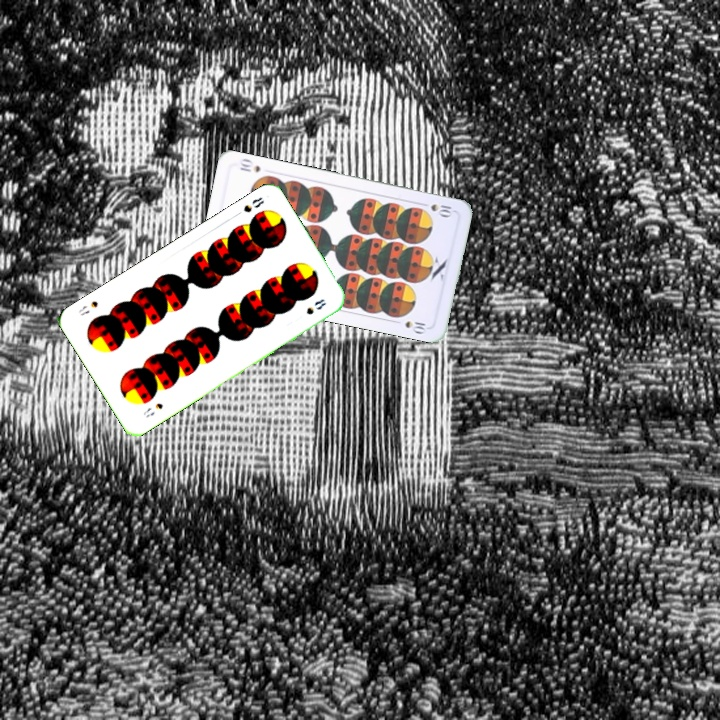S10: (416, 199, 457, 219)
S8: (230, 193, 267, 219), (139, 399, 166, 420)
